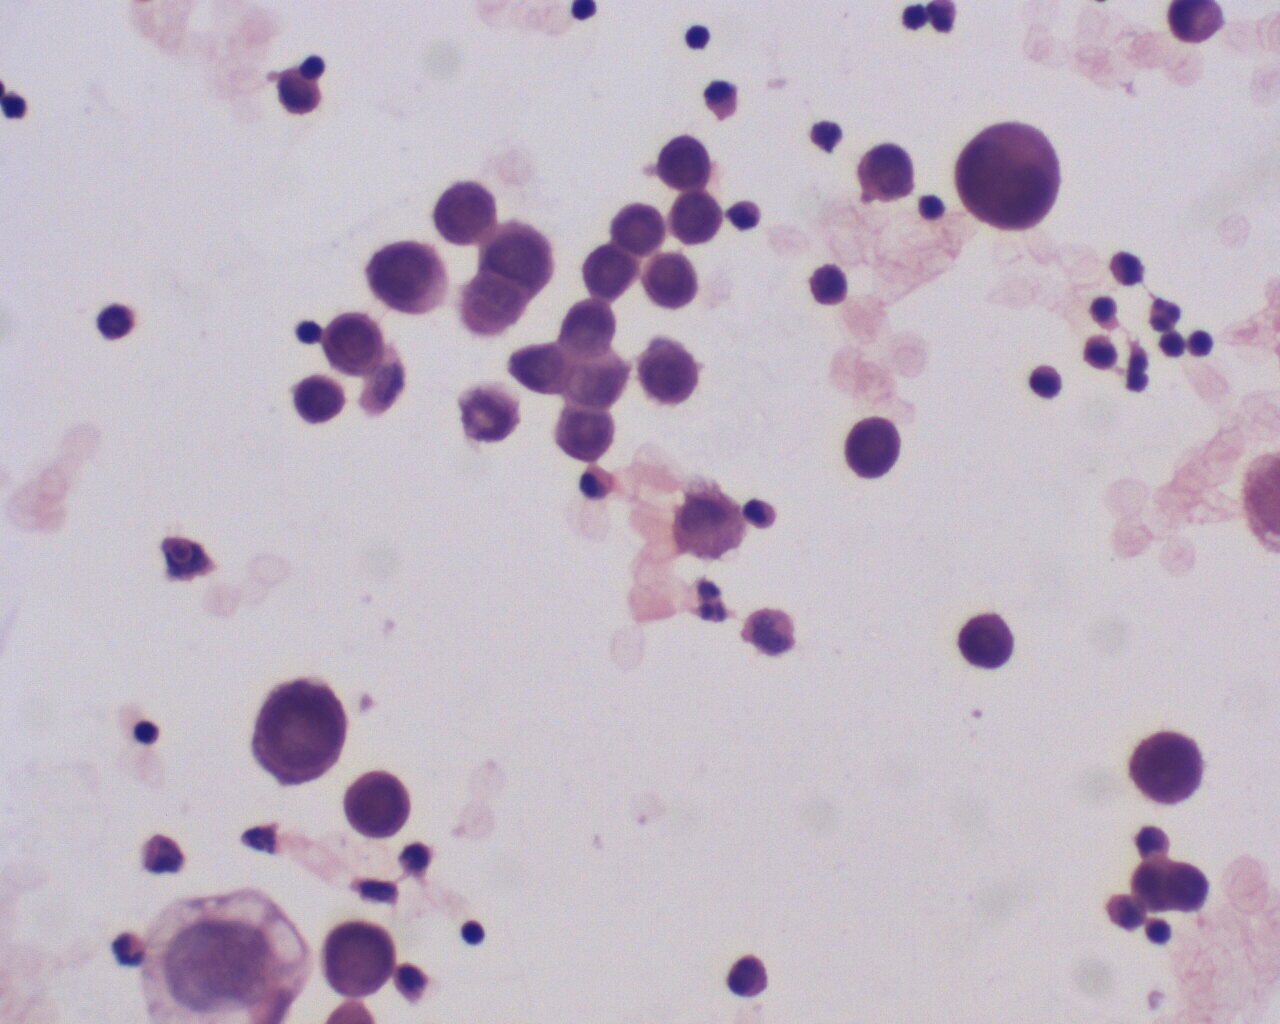ab: (954, 115, 1068, 234), (247, 674, 357, 794), (364, 237, 455, 326), (316, 920, 403, 1002), (1126, 725, 1210, 807), (344, 757, 415, 843), (841, 408, 914, 490), (485, 218, 558, 299), (632, 334, 706, 408), (321, 304, 388, 383), (848, 136, 920, 209), (430, 173, 499, 248), (650, 130, 721, 195), (551, 403, 626, 463), (955, 607, 1021, 675), (509, 339, 578, 397), (643, 250, 704, 313), (559, 293, 616, 359), (667, 189, 724, 252)
lymph: (125, 718, 165, 752), (680, 16, 716, 52)
meso: (672, 486, 745, 565)
neutro: (103, 924, 148, 972), (1144, 293, 1181, 336)
